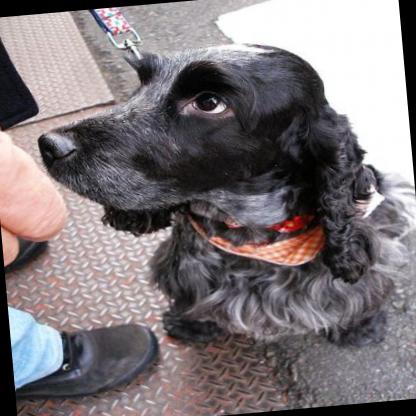cocker_spaniel: (26, 25, 416, 373)
